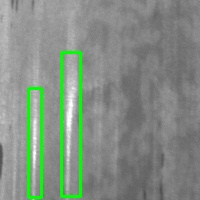scratches: (61, 52, 80, 196), (28, 88, 41, 197)
